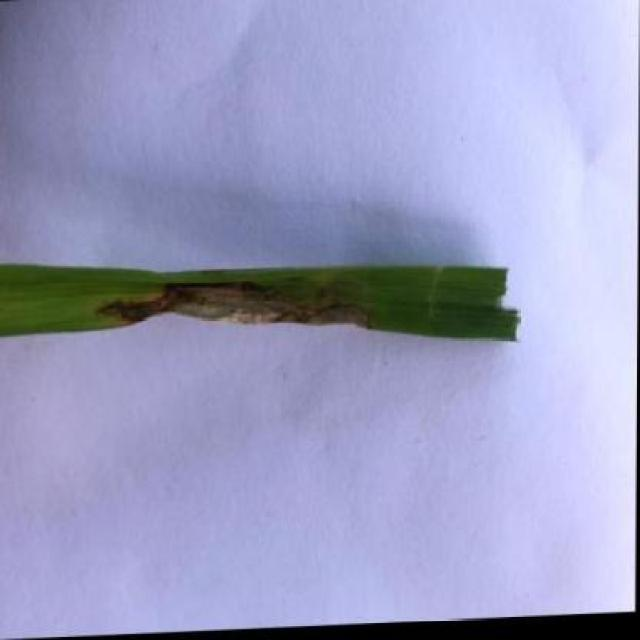Brown_Spot: (0, 240, 540, 374)
